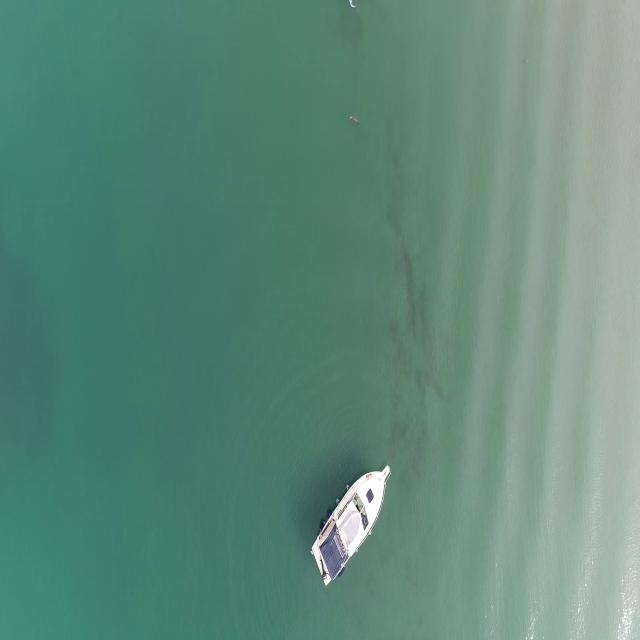boat: (312, 459, 391, 591)
wood: (349, 112, 361, 126)
